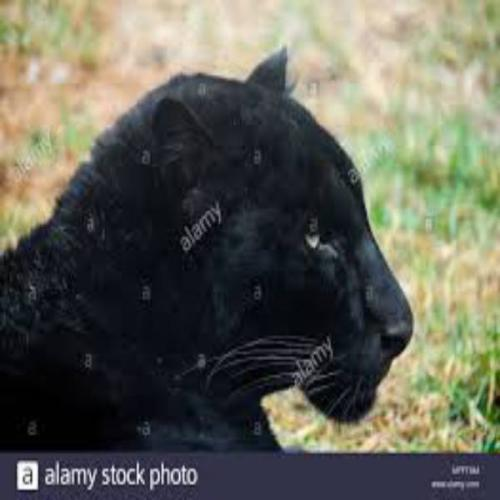panther-endangered: (0, 46, 419, 454)
